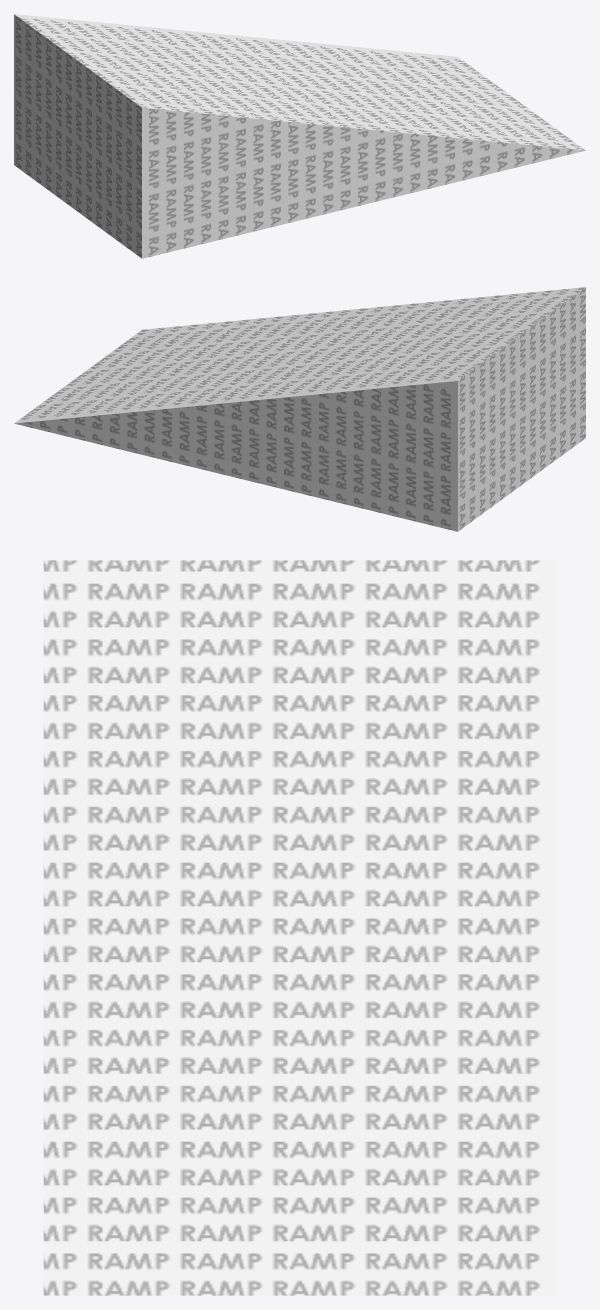
Rendered from Ramp.FBX.
The picture shows the model from 3 angles, top to bottom: view 1: azimuth 30°, elevation 25°; view 2: azimuth 150°, elevation 25°; view 3: azimuth 270°, elevation 25°; orthographic projection. The views are drawn at different scales.
Parts seen in each view (by area): view 1: Ramp; view 2: Ramp; view 3: Ramp.
Boxes of the visible parts, x1,y1,x2,y2 form: Ramp: (14, 14, 585, 258); Ramp: (14, 287, 585, 531); Ramp: (43, 560, 556, 1295).
Bounding box in the file's own units: 800 × 400 × 260.
1 material, 1 textured.
